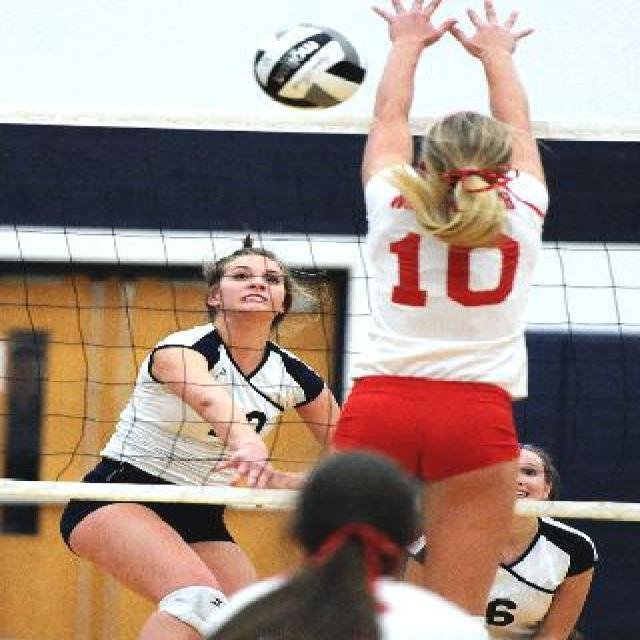volleyball: (252, 17, 366, 110)
